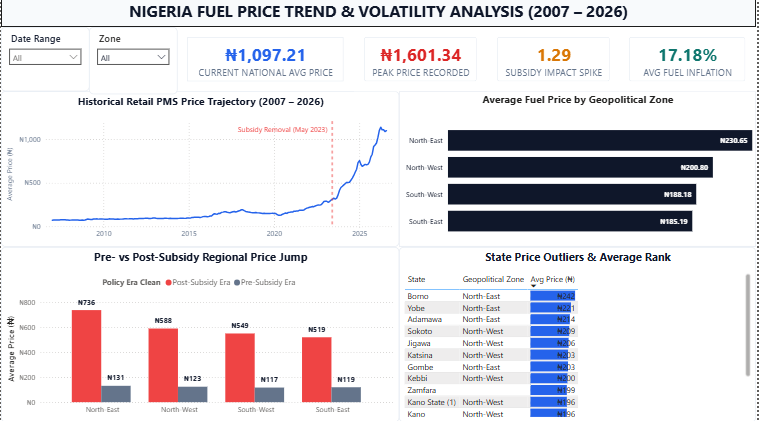

Layout of this report page (visuals, bound fields, positions):
{"tool":"powerbi","page":{"name":"Page 1","canvas":[1280,720],"ordinal":0},"visuals":[{"type":"textbox","box":[0,0,1280,50.4],"z":0},{"type":"cardVisual","fields":{"Data":["Cleaned_Nigeria_Fuel_Data.Latest Fuel Price"]},"box":[299,50.4,299,109.2],"z":1000},{"type":"lineChart","title":"Historical Retail PMS Price Trajectory (2007 – 2026)","fields":{"Category":["Cleaned_Nigeria_Fuel_Data.date"],"Y":["Avg(Cleaned_Nigeria_Fuel_Data.retail_price_NGN)"]},"box":[0,159.6,675.3,263.7],"z":2000},{"type":"cardVisual","fields":{"Data":["Cleaned_Nigeria_Fuel_Data.Peak Price"]},"box":[598,50.4,225.1,109.2],"z":3000},{"type":"clusteredBarChart","title":"Average Fuel Price by Geopolitical Zone","fields":{"Y":["Avg(Cleaned_Nigeria_Fuel_Data.retail_price_NGN)"],"Category":["Cleaned_Nigeria_Fuel_Data.Geopolitical Zone Clean"]},"box":[675.3,159.6,604.7,263.7],"z":4000},{"type":"cardVisual","fields":{"Data":["Cleaned_Nigeria_Fuel_Data.Avg YoY Inflation"]},"box":[1048.2,50.4,231.8,109.2],"z":5000},{"type":"clusteredColumnChart","title":"Pre- vs Post-Subsidy Regional Price Jump","fields":{"Category":["Cleaned_Nigeria_Fuel_Data.Geopolitical Zone Clean"],"Y":["Avg(Cleaned_Nigeria_Fuel_Data.retail_price_NGN)"],"Series":["Cleaned_Nigeria_Fuel_Data.Policy Era Clean"]},"box":[0,423.3,675.3,297.3],"z":6000},{"type":"cardVisual","fields":{"Data":["Cleaned_Nigeria_Fuel_Data.Subsidy Spike Pct"]},"box":[823.1,50.4,225.1,109.2],"z":7000},{"type":"tableEx","title":"State Price Outliers & Average Rank","fields":{"Values":["Cleaned_Nigeria_Fuel_Data.state","Cleaned_Nigeria_Fuel_Data.Geopolitical Zone Clean","Avg(Cleaned_Nigeria_Fuel_Data.retail_price_NGN)"]},"box":[675.3,423.3,604.7,297.3],"z":8000},{"type":"slicer","fields":{"Values":["Cleaned_Nigeria_Fuel_Data.Month Year"]},"box":[0,50.4,149.5,109.2],"z":9000},{"type":"slicer","fields":{"Values":["Cleaned_Nigeria_Fuel_Data.Geopolitical Zone Clean"]},"box":[149.5,50.4,149.5,114.2],"z":10000}]}

Visuals, with their boxes in screenshot pixels (x1, y1, x2, y2), scaled from the page's 1280x720 canvas onto the 759x421 screenshot:
textbox: (0, 0, 758, 29)
cardVisual - Cleaned_Nigeria_Fuel_Data.Latest Fuel Price: (177, 29, 355, 93)
"Historical Retail PMS Price Trajectory (2007 – 2026)" lineChart: (0, 93, 400, 248)
cardVisual - Cleaned_Nigeria_Fuel_Data.Peak Price: (355, 29, 488, 93)
"Average Fuel Price by Geopolitical Zone" clusteredBarChart: (400, 93, 758, 248)
cardVisual - Cleaned_Nigeria_Fuel_Data.Avg YoY Inflation: (622, 29, 758, 93)
"Pre- vs Post-Subsidy Regional Price Jump" clusteredColumnChart: (0, 248, 400, 420)
cardVisual - Cleaned_Nigeria_Fuel_Data.Subsidy Spike Pct: (488, 29, 622, 93)
"State Price Outliers & Average Rank" tableEx: (400, 248, 758, 420)
slicer - Cleaned_Nigeria_Fuel_Data.Month Year: (0, 29, 89, 93)
slicer - Cleaned_Nigeria_Fuel_Data.Geopolitical Zone Clean: (89, 29, 177, 96)
